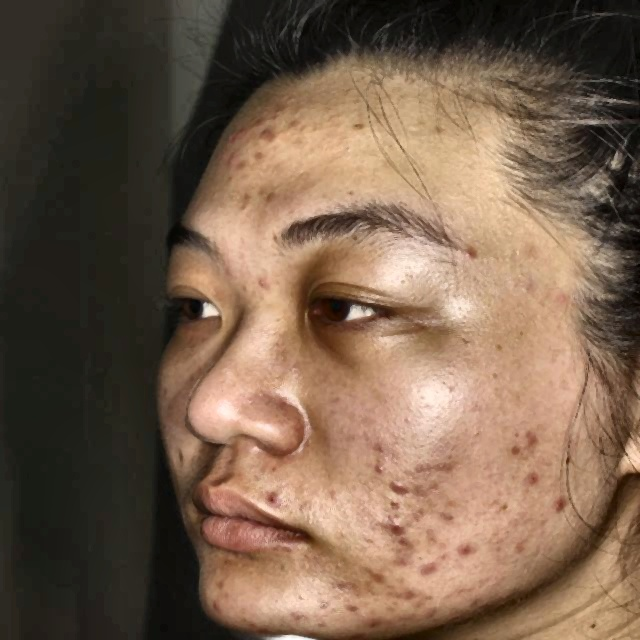pustule: (548, 490, 580, 520), (382, 516, 415, 545), (248, 266, 276, 300), (203, 593, 230, 624), (326, 563, 352, 593), (238, 187, 268, 208), (414, 560, 444, 580), (419, 597, 445, 620), (519, 428, 545, 450), (360, 564, 388, 584), (462, 240, 483, 266), (522, 467, 546, 489), (388, 475, 413, 496), (451, 543, 481, 560), (369, 460, 393, 480), (391, 550, 415, 569), (270, 486, 289, 506), (402, 580, 420, 601), (367, 617, 385, 628), (506, 444, 516, 459)
